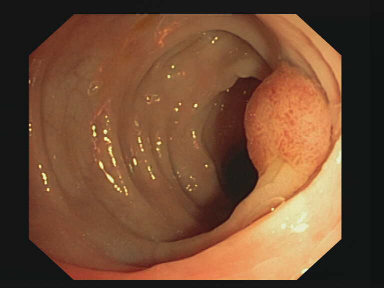polyp: (239, 47, 337, 218)
